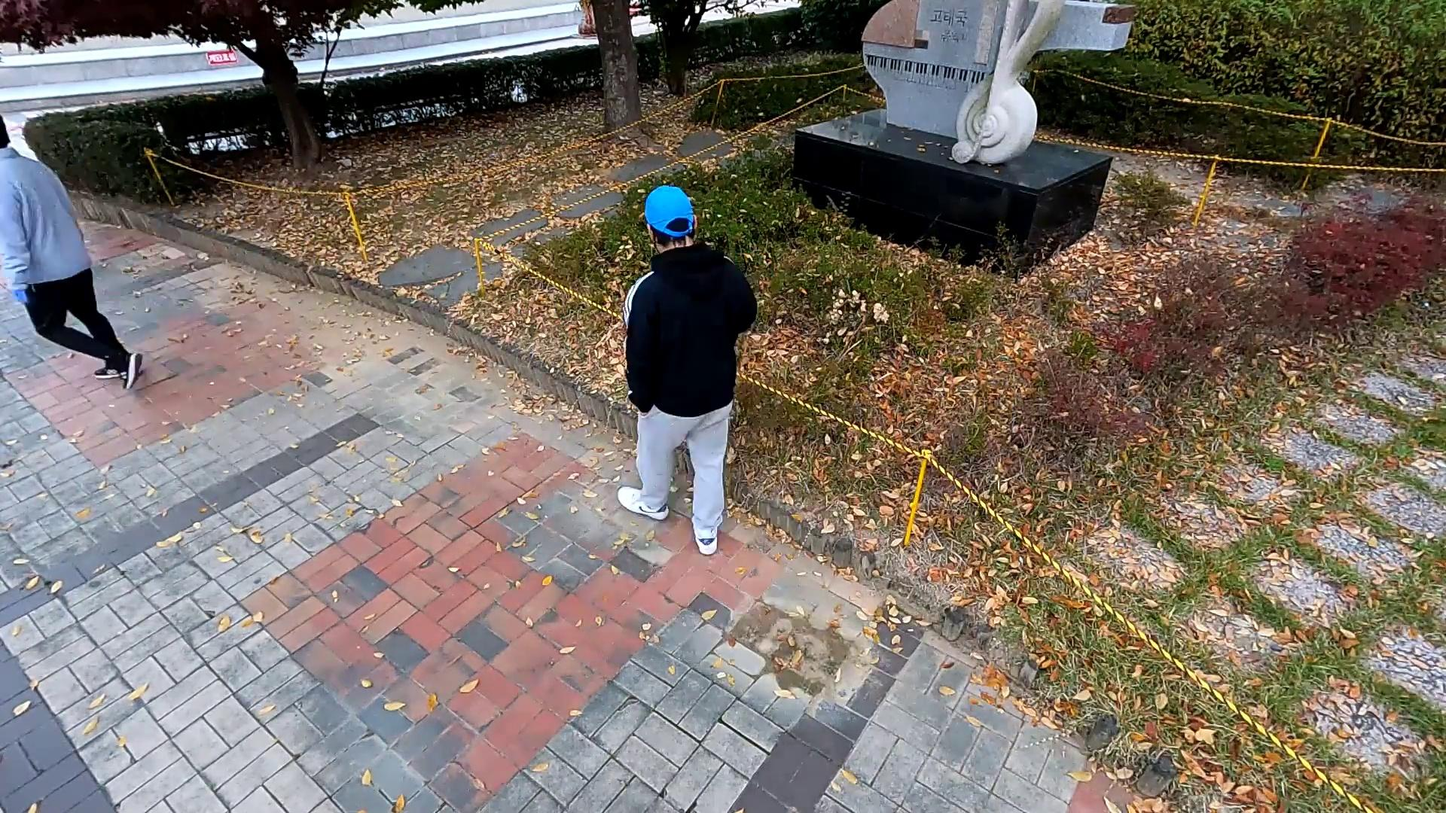person: (612, 183, 762, 554), (0, 104, 146, 393)
